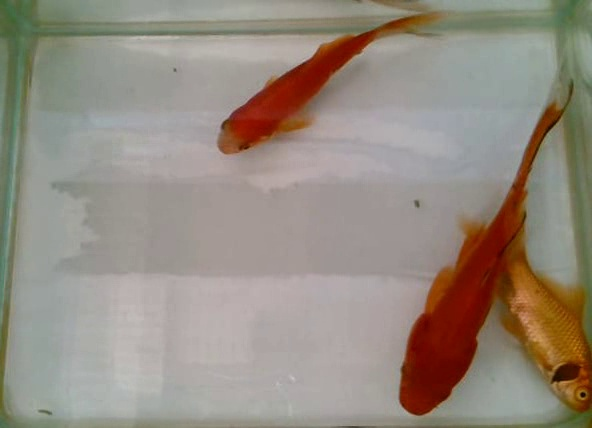alive_fish: (391, 73, 585, 419), (203, 10, 464, 159)
dead_fish: (449, 197, 592, 420)
